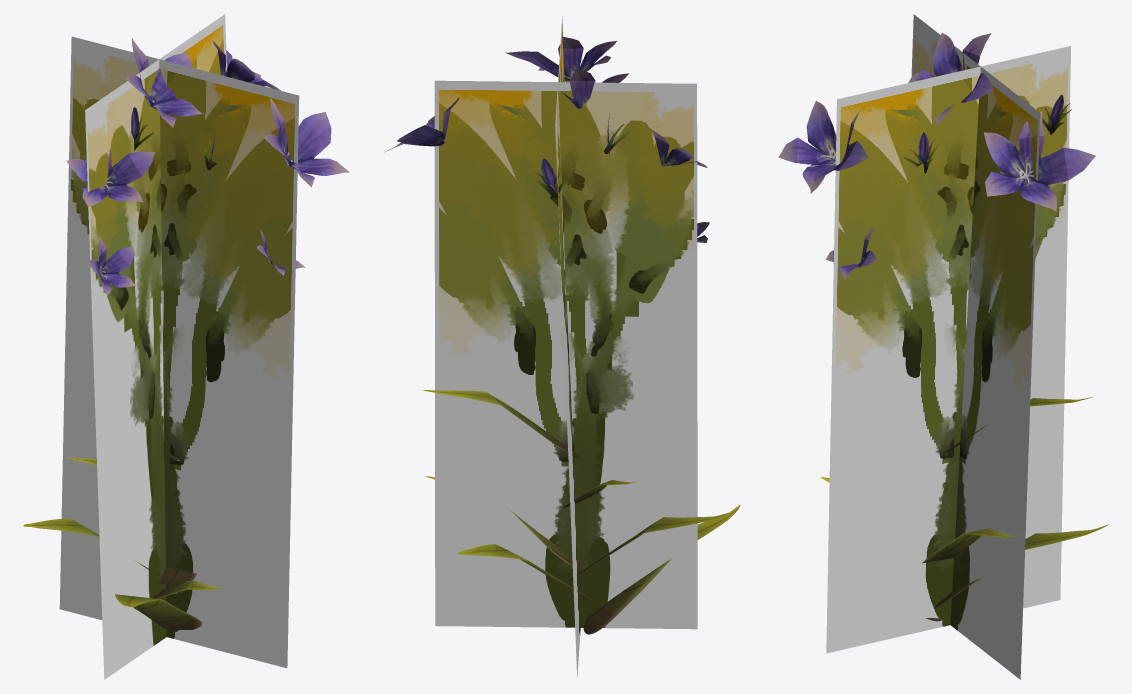
Rendered from SpredingBelflower.fbx.
3 views of the same model, side by side, from view 1: azimuth 30°, elevation 25°; view 2: azimuth 150°, elevation 25°; view 3: azimuth 270°, elevation 25° (orthographic).
Visible parts, largest first — view 1: SpredingBelflower2; view 2: SpredingBelflower2; view 3: SpredingBelflower2.
Part boxes in pixels (x1,y1,x2,y2): SpredingBelflower2: (23, 14, 349, 679); SpredingBelflower2: (384, 15, 740, 677); SpredingBelflower2: (778, 14, 1108, 679).
Bounding box in the file's own units: 0.1726 × 0.3196 × 0.168.
Materials: 2 (2 with a texture image).
